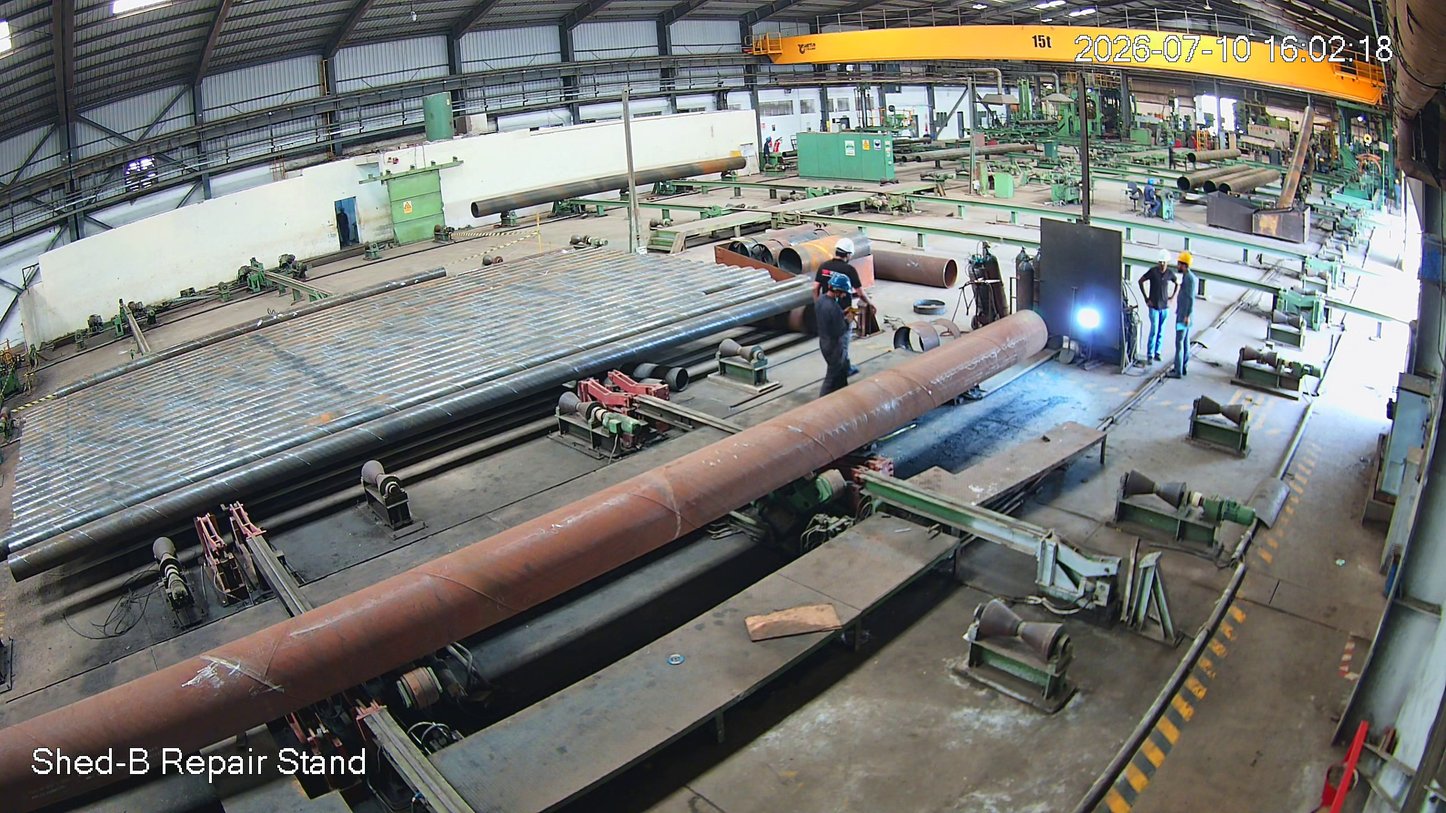Helmet: (830, 233, 862, 273), (827, 270, 855, 306), (1154, 244, 1178, 276), (1175, 250, 1196, 278)
Person: (815, 236, 871, 338), (1141, 247, 1175, 368), (819, 273, 851, 396), (1173, 251, 1201, 383)
